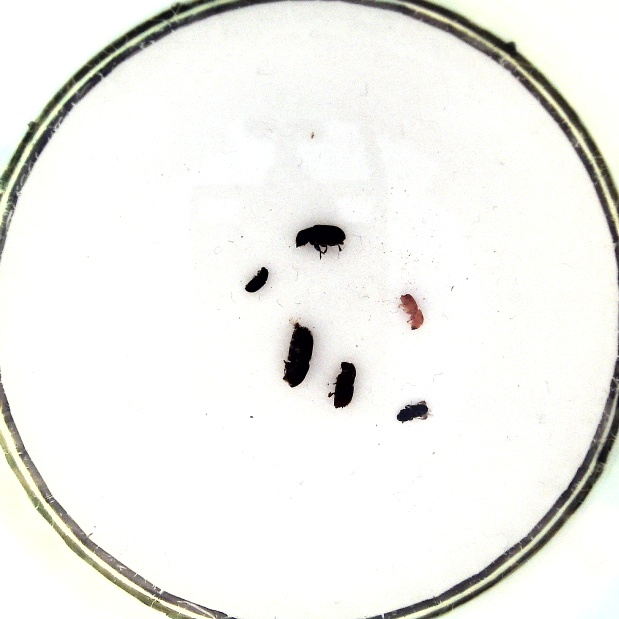acuminatus: (395, 292, 427, 331)
armandi: (291, 223, 350, 258)
boerner: (280, 320, 315, 388)
coleoptera: (394, 398, 435, 424), (243, 265, 269, 294)
linnaeus: (327, 359, 358, 410)
